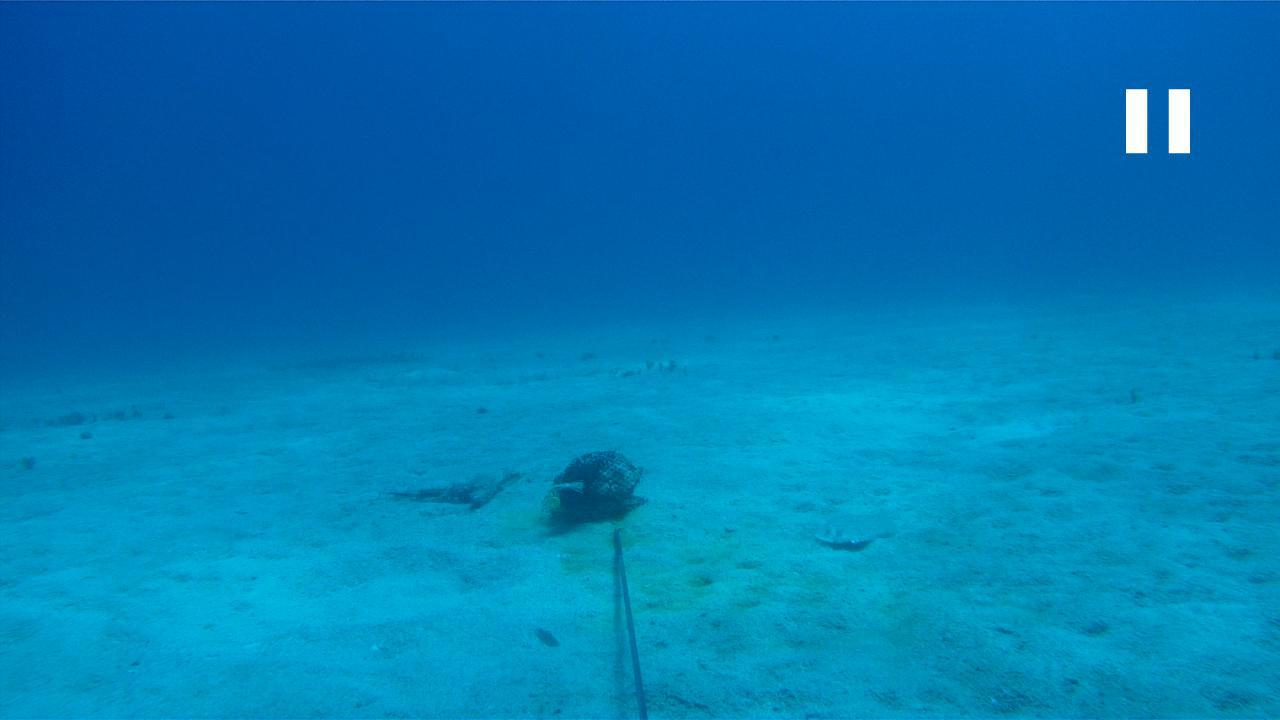bothus: (813, 510, 898, 548)
